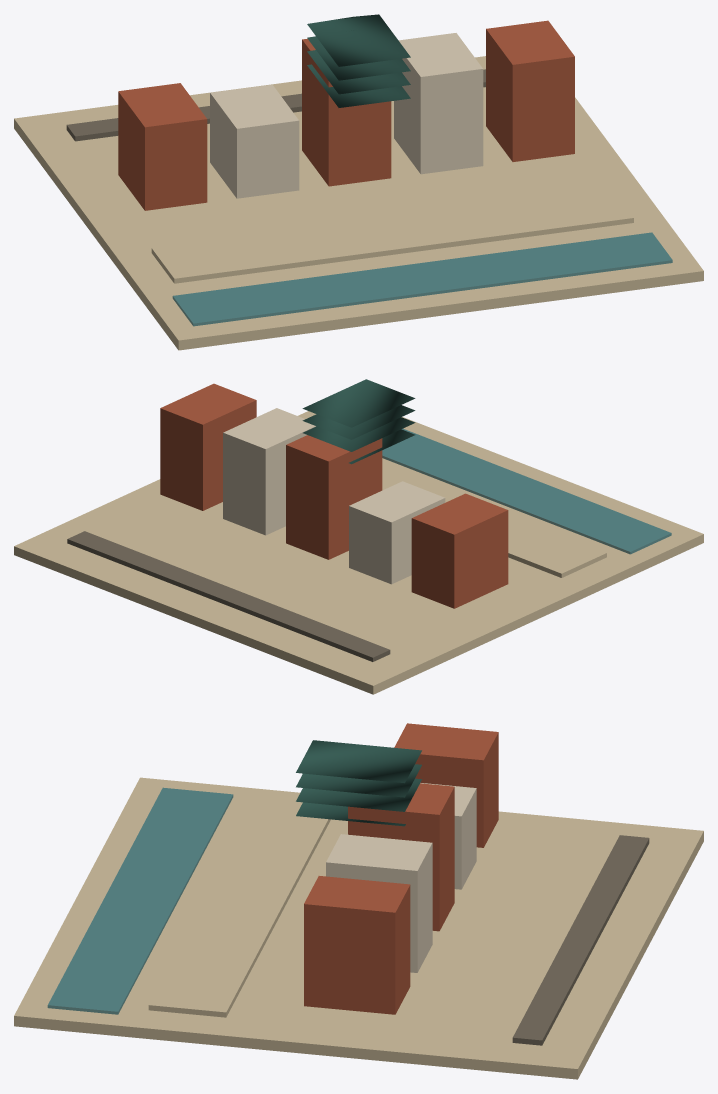
Rendered from model-medium.glb.
The picture shows the model from 3 angles, top to bottom: view 1: azimuth 30°, elevation 25°; view 2: azimuth 150°, elevation 25°; view 3: azimuth 270°, elevation 25°; orthographic projection. The views are drawn at different scales.
Visible parts, largest first — view 1: context_site_plinth, street_public_axis, context_water_edge, street_facade_4, street_facade_3, street_facade_0, street_facade_1, street_facade_2, street_roof_2, street_roof_3, street_roof_0, front_scale_strip (+1 smaller); view 2: context_site_plinth, context_water_edge, street_facade_0, street_facade_2, street_facade_4, street_facade_3, front_scale_strip, street_facade_1, street_public_axis, street_roof_2, street_roof_3, street_roof_0; view 3: context_site_plinth, street_public_axis, context_water_edge, street_facade_4, front_scale_strip, street_facade_0, street_facade_3, street_facade_2, street_roof_2, street_facade_1, street_roof_3, street_roof_0 (+1 smaller).
Part boxes in pixels (box(x1,y1,x2,y2)): context_site_plinth: box(14, 56, 703, 350); street_public_axis: box(151, 187, 633, 283); context_water_edge: box(172, 232, 672, 326); street_facade_4: box(486, 20, 574, 161); street_facade_3: box(394, 33, 483, 174); street_facade_0: box(118, 83, 207, 210); street_facade_1: box(210, 84, 299, 198); street_facade_2: box(302, 38, 391, 186); street_roof_2: box(307, 14, 410, 66); street_roof_3: box(307, 30, 410, 80); street_roof_0: box(307, 50, 410, 94); front_scale_strip: box(66, 69, 485, 141); context_site_plinth: box(14, 411, 703, 694); context_water_edge: box(382, 428, 671, 554); street_facade_0: box(411, 493, 508, 608); street_facade_2: box(286, 435, 382, 559); street_facade_4: box(160, 383, 256, 510); street_facade_3: box(223, 408, 315, 535); front_scale_strip: box(67, 531, 390, 661); street_facade_1: box(349, 481, 445, 584); street_public_axis: box(382, 465, 606, 577); street_roof_2: box(302, 379, 415, 427); street_roof_3: box(302, 405, 415, 439); street_roof_0: box(303, 417, 415, 451); context_site_plinth: box(14, 777, 703, 1079); street_public_axis: box(148, 796, 330, 1017); context_water_edge: box(47, 787, 233, 1014); street_facade_4: box(304, 876, 410, 1014); front_scale_strip: box(512, 835, 649, 1045); street_facade_0: box(394, 723, 498, 847); street_facade_3: box(326, 834, 432, 972); street_facade_2: box(348, 783, 454, 931); street_roof_2: box(296, 740, 421, 783); street_facade_1: box(420, 783, 476, 889); street_roof_3: box(296, 764, 421, 797); street_roof_0: box(296, 778, 421, 811).
Size of the model in its own units: 9.55 by 2.89 by 9.55.
